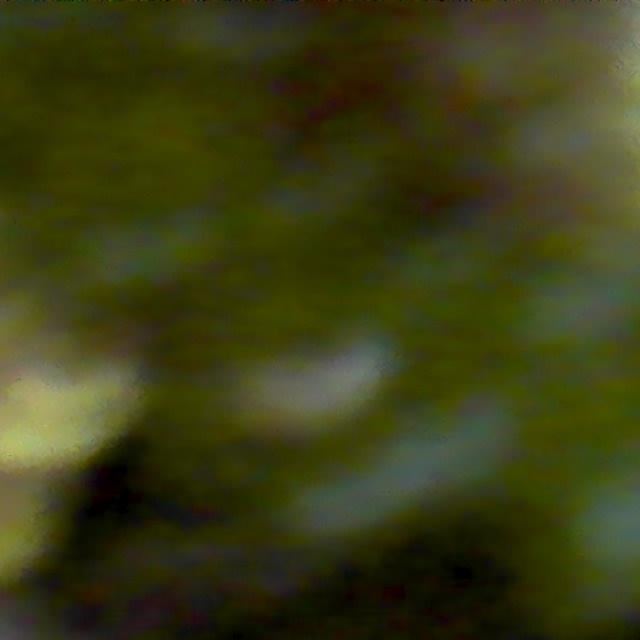SeaGrape: (506, 463, 640, 638), (281, 470, 375, 553)
